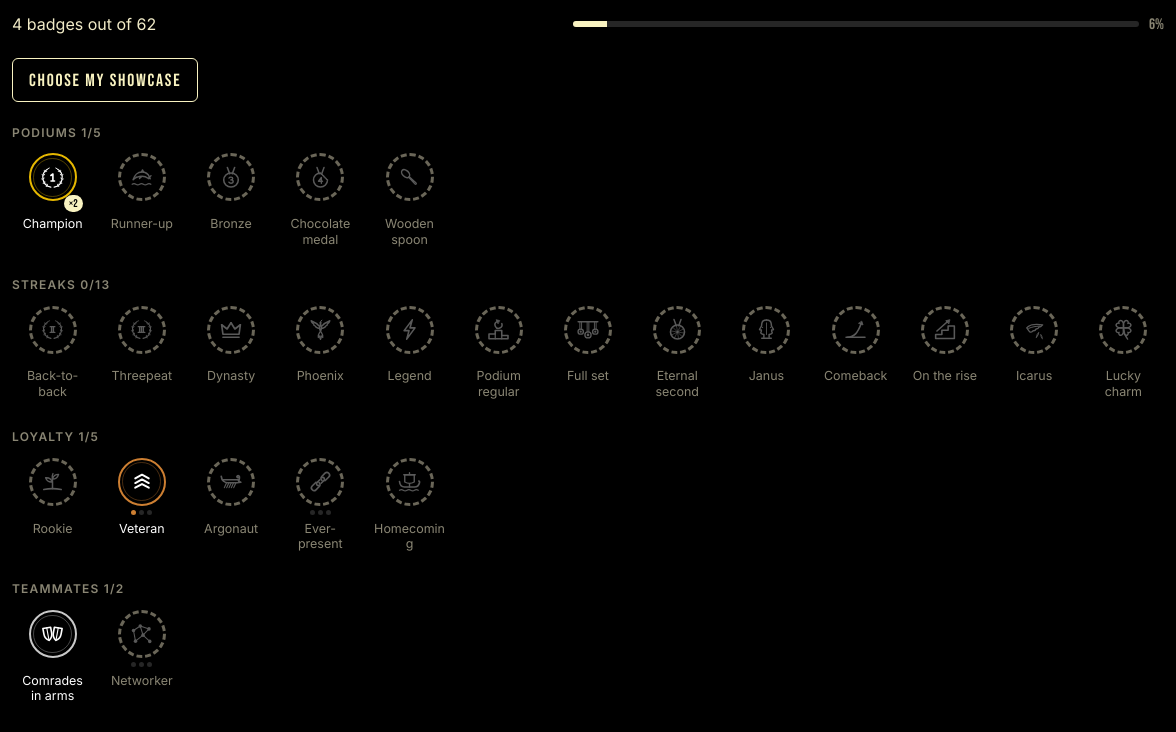
it: BadgeCollection showcase selection (the owner) › turns earned slots into toggles and disables locked ones, the intro taking focus
Click the button "Choose my showcase".
click(105, 80)  # box [12,58,198,102]
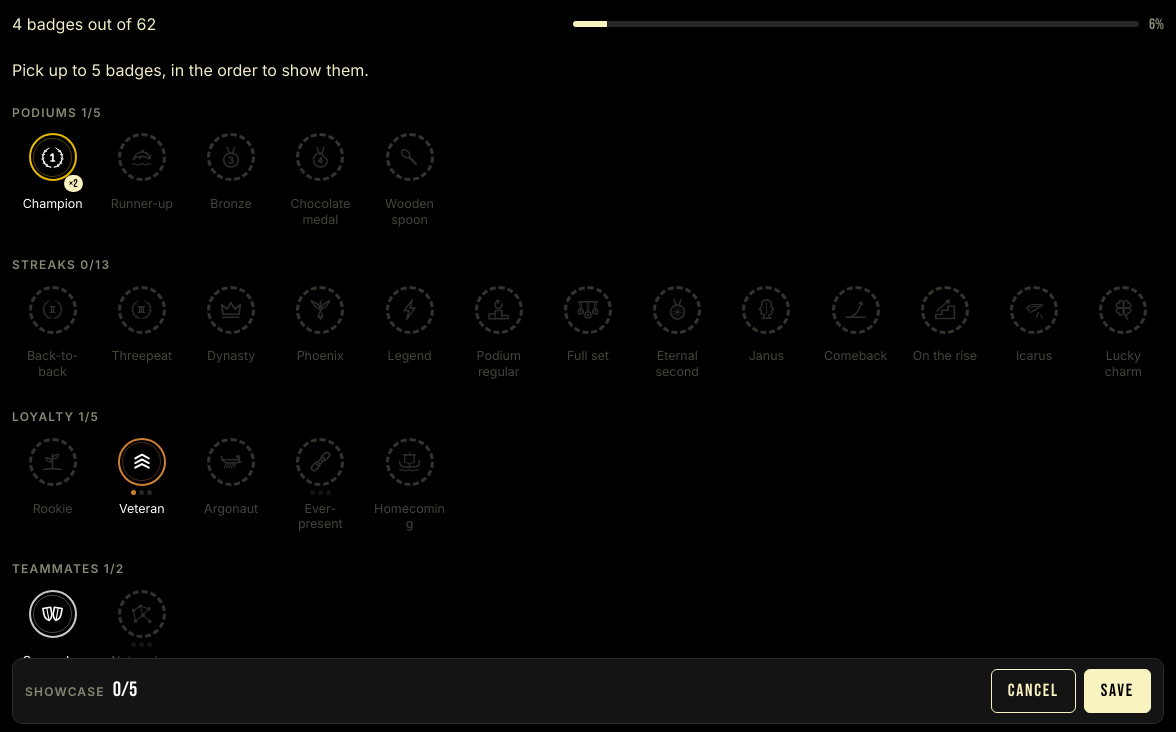
Expected: the button "Choose my showcase" is gone
